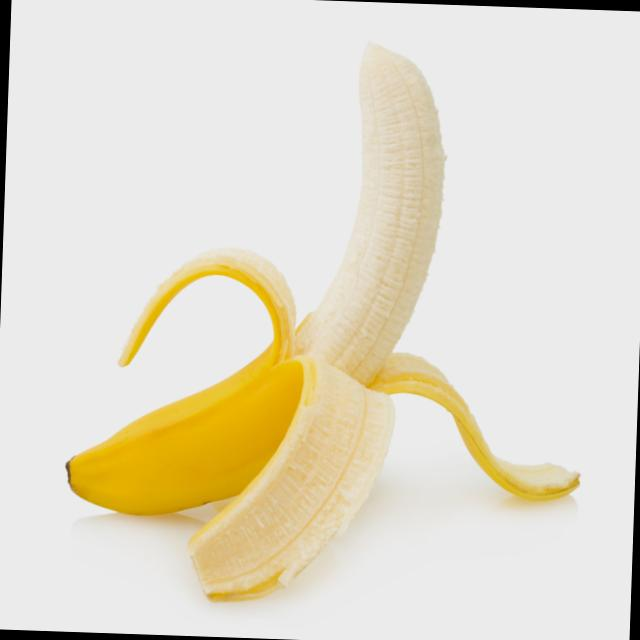banana: (59, 34, 458, 556)
